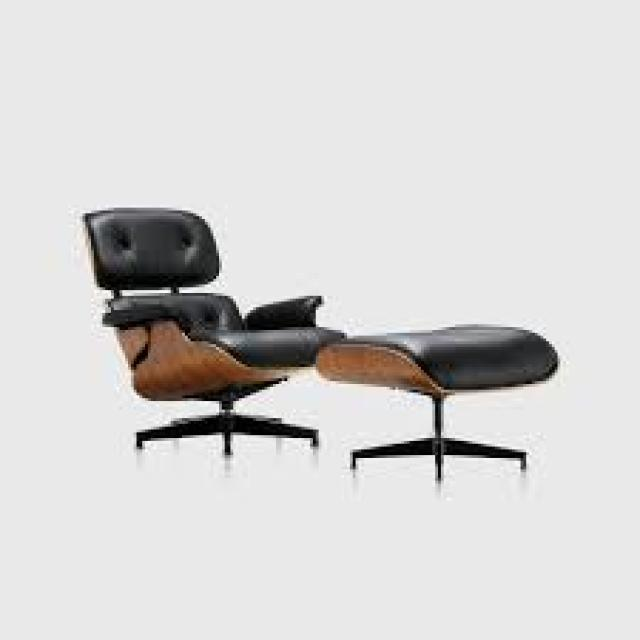chair: (55, 157, 348, 498)
